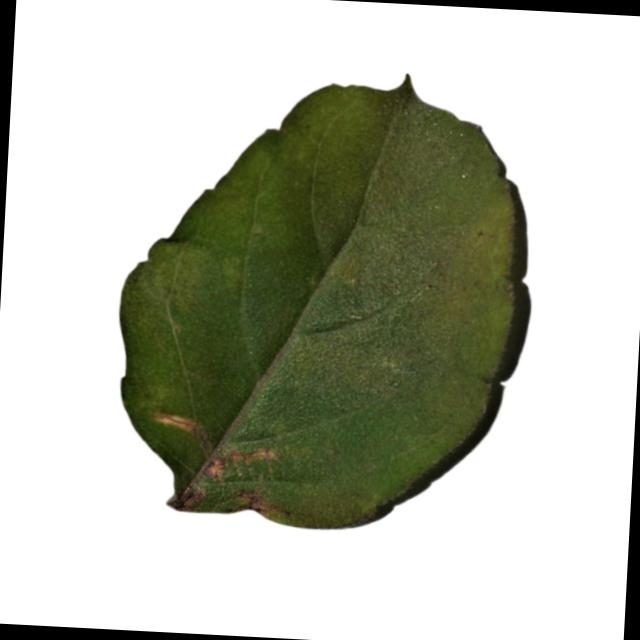tulsi: (104, 58, 543, 544)
